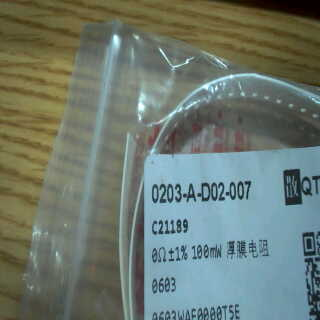0R: (149, 243, 227, 294)
